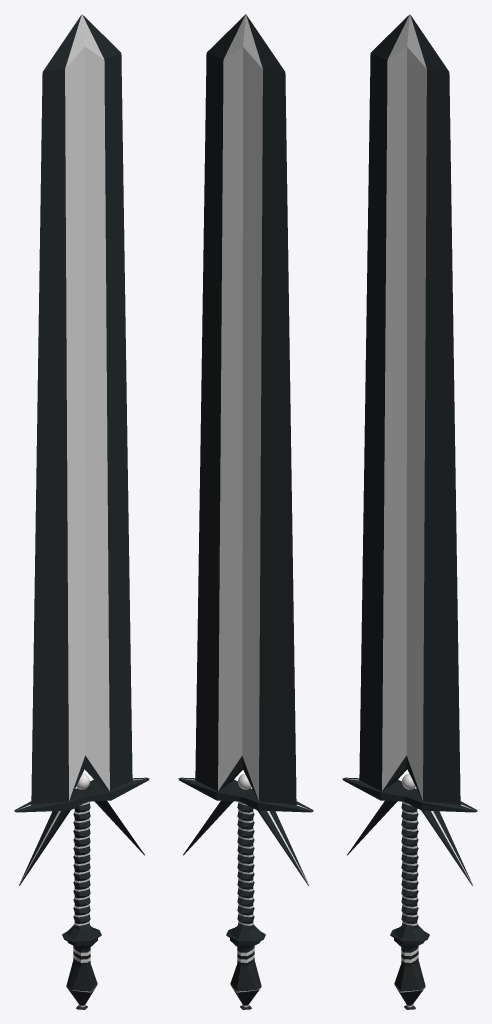
File: Greatsword_mk_3.fbx
3 renders of one model, left to right at view 1: azimuth 30°, elevation 25°; view 2: azimuth 150°, elevation 25°; view 3: azimuth 330°, elevation 25°, orthographic.
Visible parts, largest first — view 1: Greatsword_mk_3; view 2: Greatsword_mk_3; view 3: Greatsword_mk_3.
Boxes of the visible parts, <box> form: Greatsword_mk_3: <box>14,14,149,1009</box>; Greatsword_mk_3: <box>178,14,313,1009</box>; Greatsword_mk_3: <box>342,14,477,1009</box>.
Size of the model in its own units: 30.02 by 7.26 by 211.
